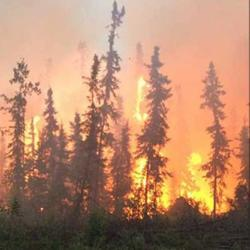fire: (134, 160, 161, 212), (189, 156, 218, 203), (132, 73, 148, 123)
